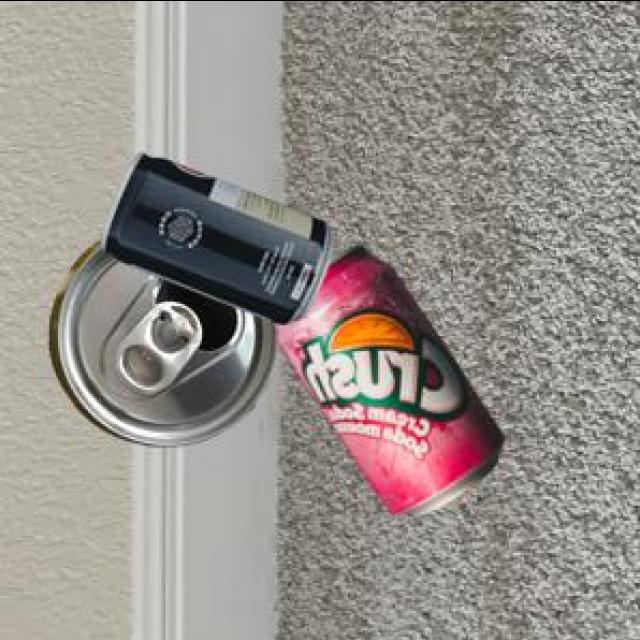logam: (274, 242, 499, 512), (48, 237, 272, 441), (98, 149, 330, 319)
